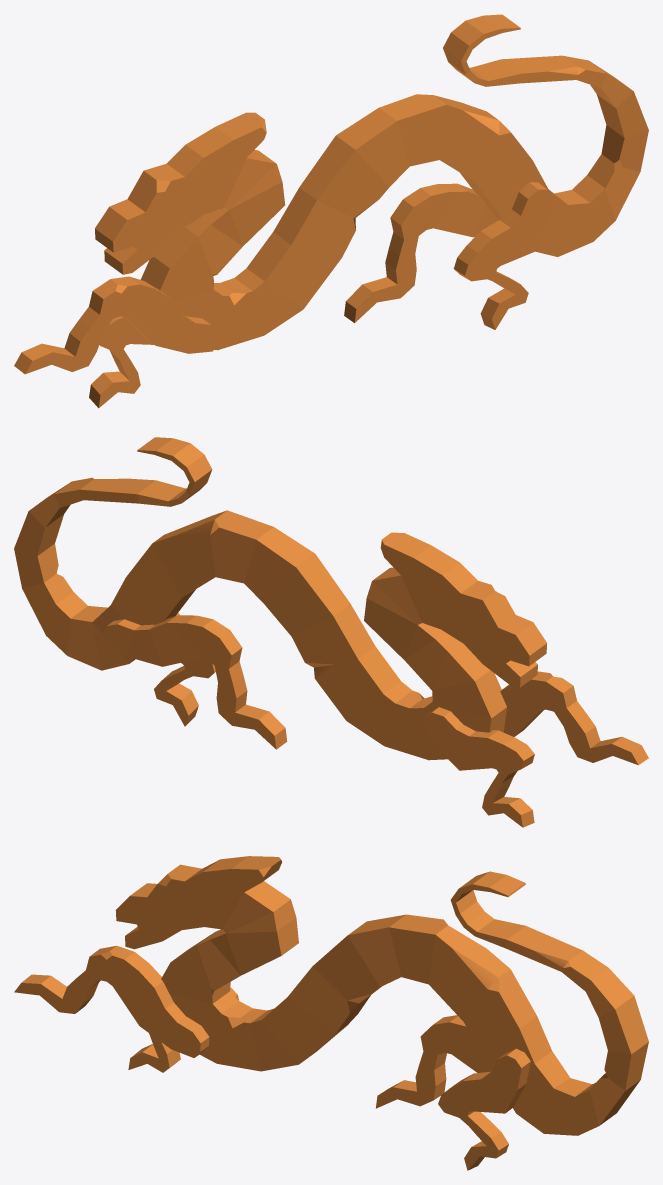
The model's file is Dragon.fbx.
3 renders of one model, top to bottom at view 1: azimuth 30°, elevation 25°; view 2: azimuth 150°, elevation 25°; view 3: azimuth 330°, elevation 25°, orthographic. The views are drawn at different scales.
Parts seen in each view (by area): view 1: Dragon; view 2: Dragon; view 3: Dragon.
Part boxes in pixels (box(x1,y1,x2,y2)): Dragon: box(14, 14, 648, 408); Dragon: box(14, 437, 648, 827); Dragon: box(14, 856, 648, 1170).
Size of the model in its own units: 2.02 by 0.8989 by 0.1951.
